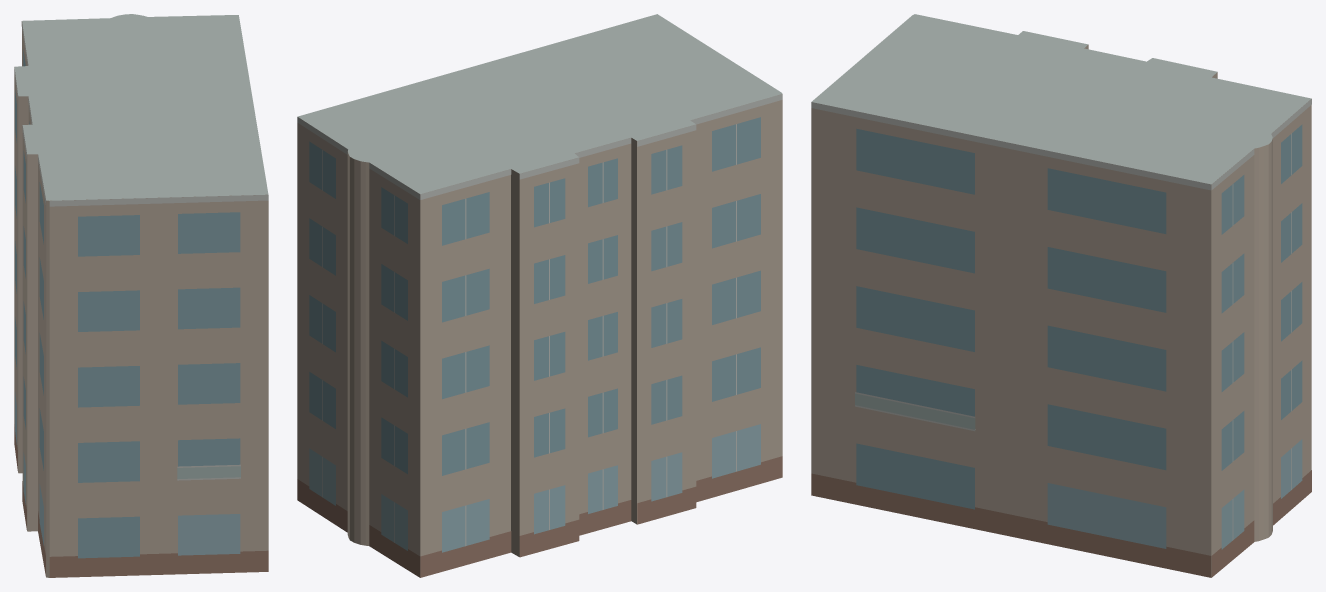
File: survey-upis-32891276.glb
3 views of the same model, side by side, from view 1: azimuth 30°, elevation 25°; view 2: azimuth 150°, elevation 25°; view 3: azimuth 270°, elevation 25° (orthographic). The views are drawn at different scales.
Visible parts, largest first — view 1: survey-upis-32891276.tmp; view 2: survey-upis-32891276.tmp; view 3: survey-upis-32891276.tmp.
Boxes of the visible parts, <box> form: survey-upis-32891276.tmp: <box>14,14,268,577</box>; survey-upis-32891276.tmp: <box>297,14,782,577</box>; survey-upis-32891276.tmp: <box>811,14,1311,577</box>.
Size of the model in its own units: 14.69 by 15.8 by 18.22.
